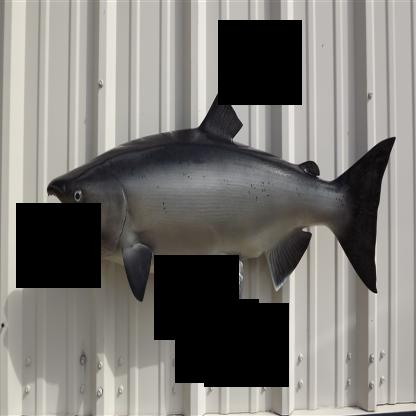fish: (44, 81, 397, 307)
